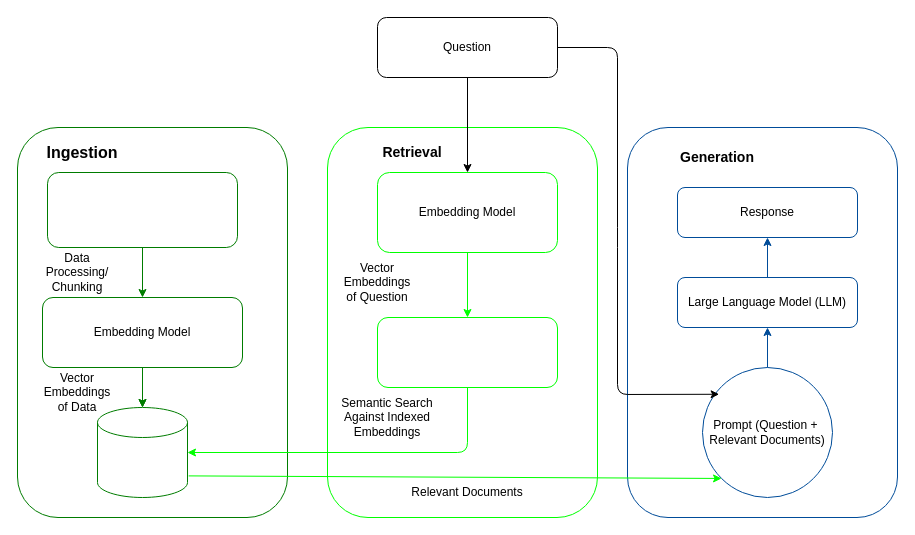
Some shapes in this 915 by 535 pixel diagram are drawn without their labels. The shapes that lost their labels are listed below. From the top down, each one's centre as x and y in pixels, then its label:
At (x=142, y=210): "Data Source".
At (x=467, y=352): "Vector Search".
At (x=142, y=452): "MongoDB Cluster".
